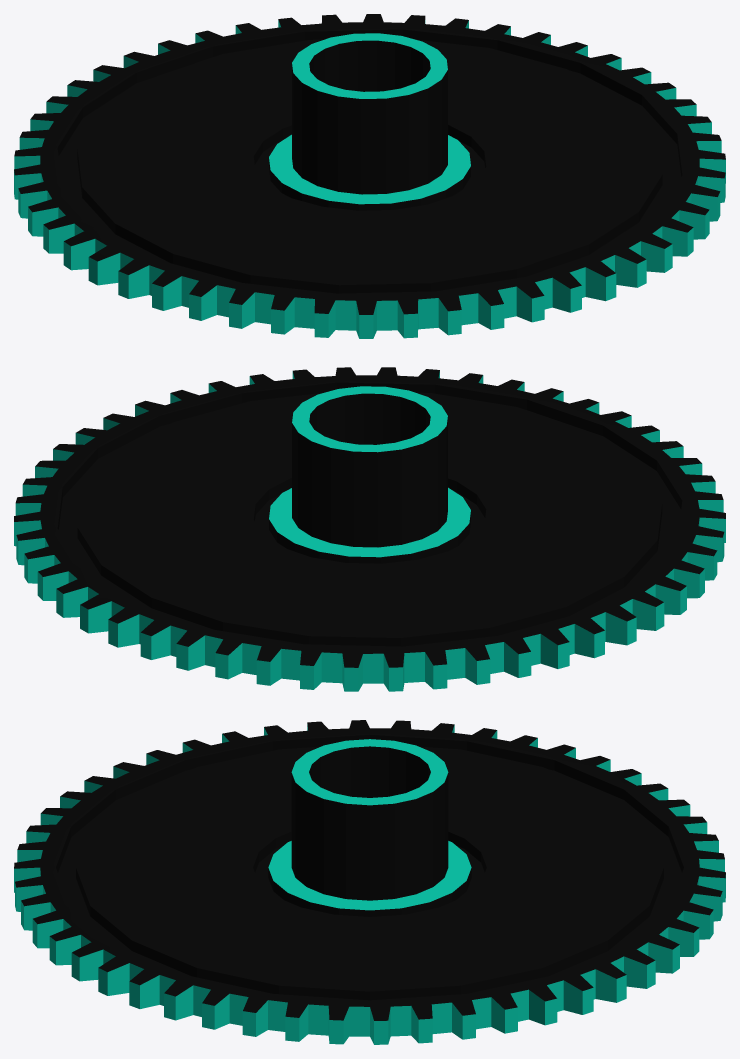
The model's file is D5GearV1.fbx.
3 views of the same model, one above another, from view 1: azimuth 30°, elevation 25°; view 2: azimuth 150°, elevation 25°; view 3: azimuth 270°, elevation 25° (orthographic).
Visible parts, largest first — view 1: D5GearV1; view 2: D5GearV1; view 3: D5GearV1.
Part boxes in pixels (x1,y1,x2,y2): D5GearV1: (14, 14, 725, 338); D5GearV1: (14, 367, 725, 691); D5GearV1: (14, 720, 725, 1044).
Size of the model in its own units: 10.8 by 2.09 by 10.8.
